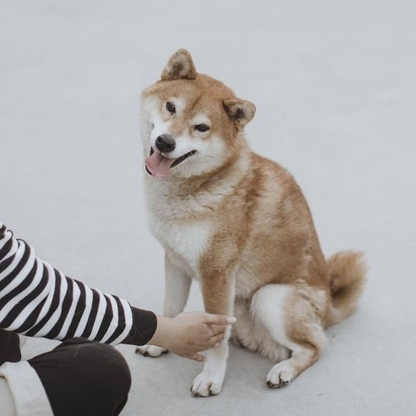shiba: (133, 45, 374, 399)
